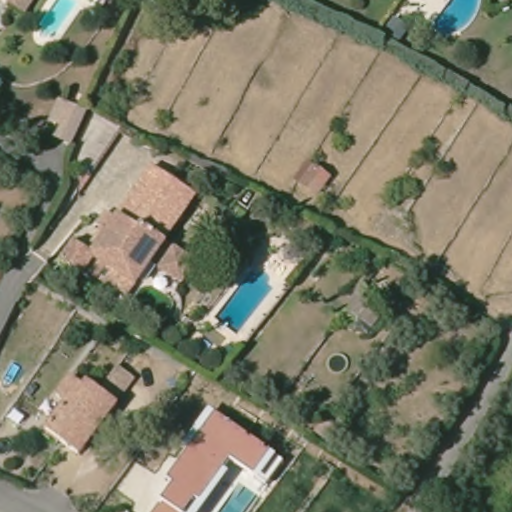pool: (214, 257, 276, 338), (30, 1, 84, 44), (429, 1, 484, 40), (213, 484, 265, 511), (1, 358, 21, 390)
